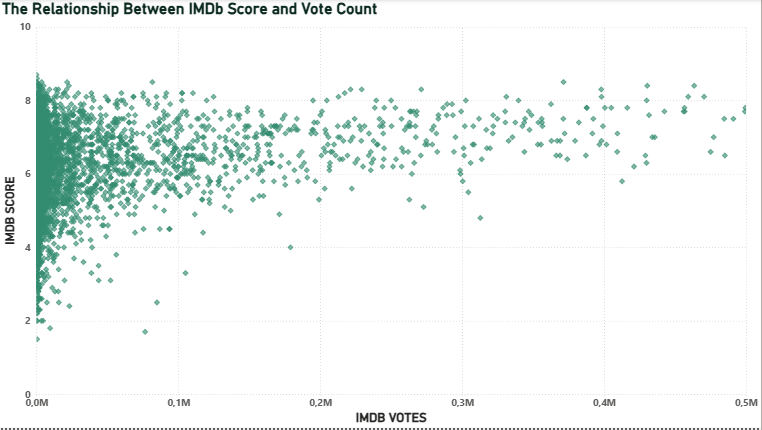

The dashboard page shown, as its layout file describes it:
{"tool":"powerbi","page":{"name":"Page 4","canvas":[1280,720],"ordinal":3},"visuals":[{"type":"scatterChart","title":"The Relationship Between IMDb Score and Vote Count","fields":{"X":["netflix_imdb_merged.imdb_votes"],"Y":["netflix_imdb_merged.imdb_score"]},"box":[0,0,1279.8,720],"z":0}]}

Visuals, with their boxes in screenshot pixels (x1, y1, x2, y2), scaled from the page's 1280x720 canvas onto the 762x430 screenshot:
"The Relationship Between IMDb Score and Vote Count" scatterChart: left=0, top=0, right=761, bottom=429
